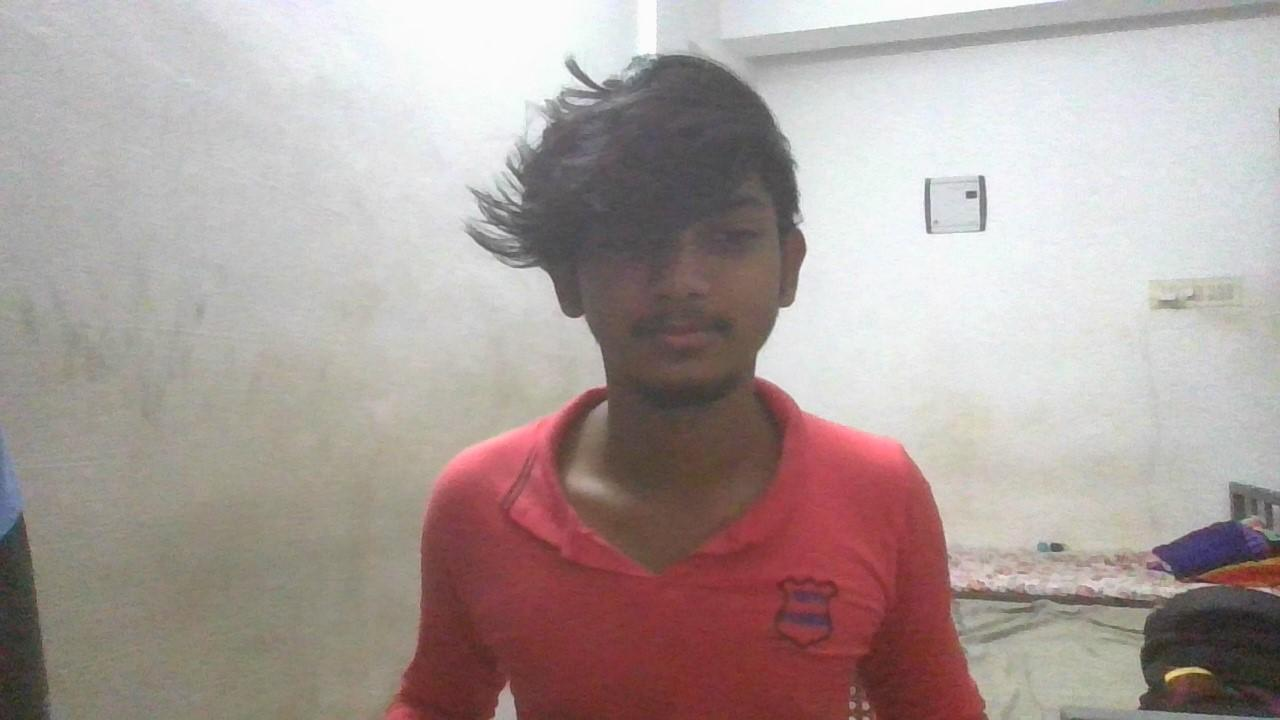nohelmet: (532, 55, 810, 415)
